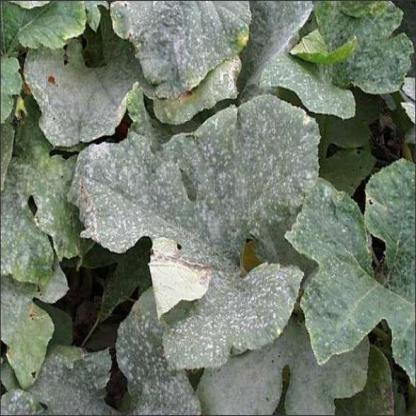Squash Powdery mildew leaf: (54, 91, 328, 374)
